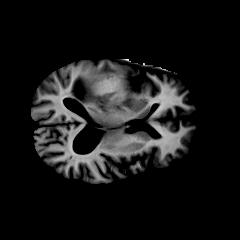glioma: (78, 74, 133, 109)
